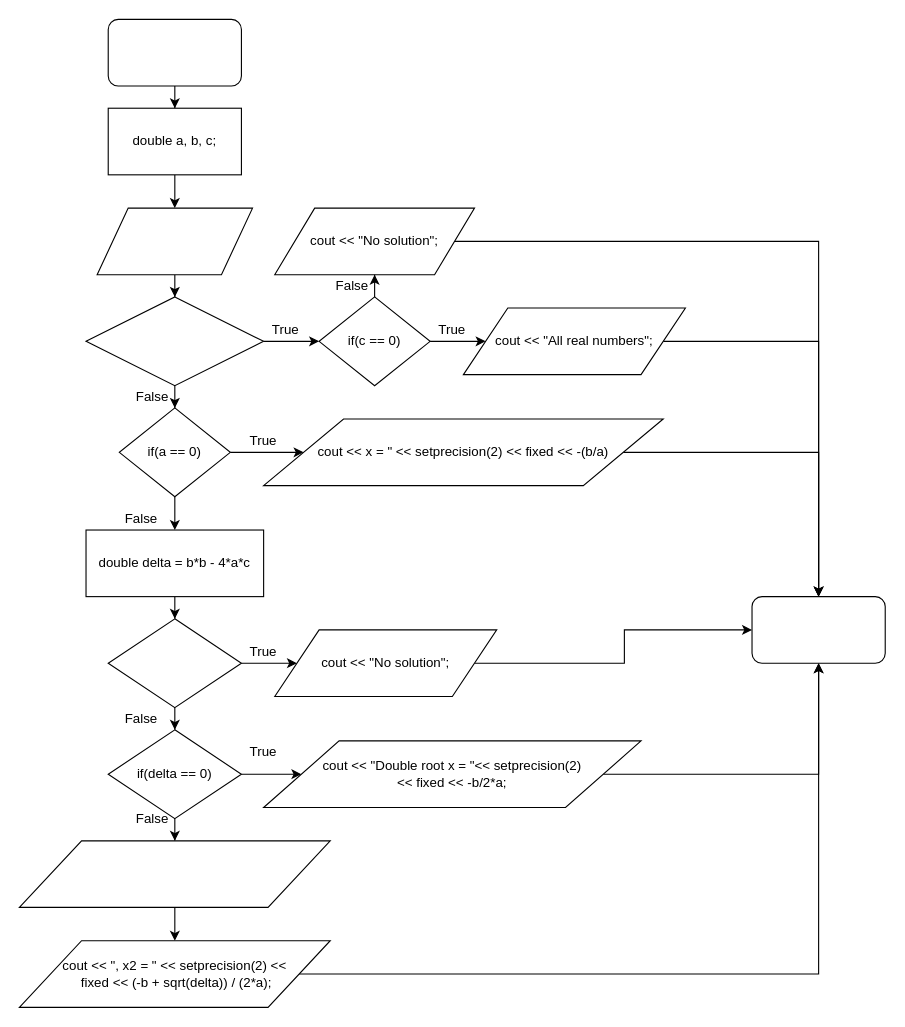
Image size: 905x1027. Some labels were removed from this diagram. Each missing label, with the box of its shape:
cin >> a >> b >> c;: (96, 207, 253, 275)
cout << "x1 = " << setprecision(2) << fixed << (-b - sqrt(delta)) / (2*a) <<: (18, 840, 330, 907)
End: (751, 596, 885, 663)
if(a == 0 && b == 0): (85, 296, 264, 386)
if(delta < 0): (107, 618, 241, 708)
Start: (107, 18, 241, 86)
